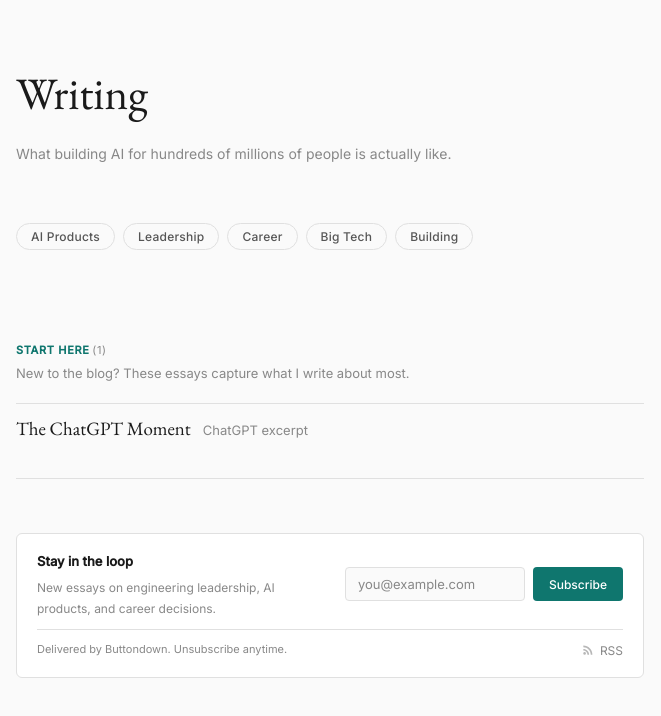
Test: Home page › clicking an active tag clears the filter
Click the button "Career".
click(262, 237)  # box [227,223,298,250]
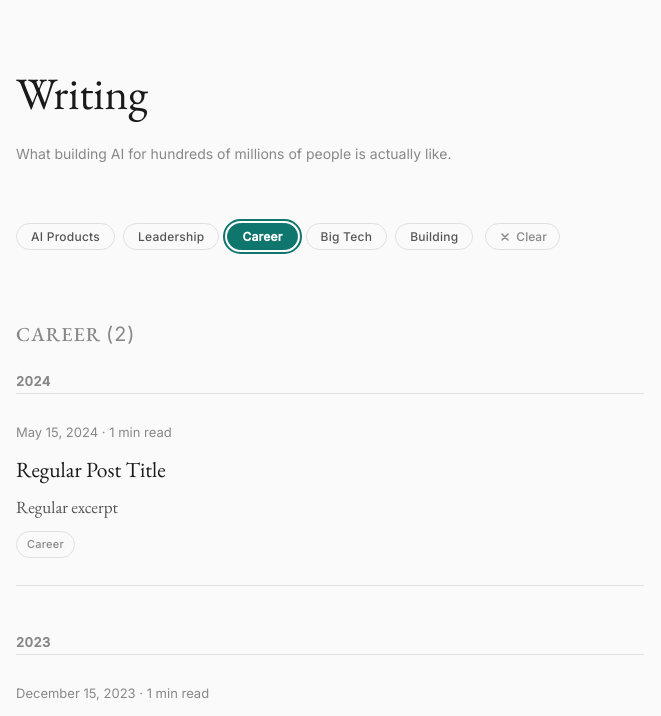
Click the button "Career".
click(262, 237)  # box [227,223,298,250]
(page scrolled)
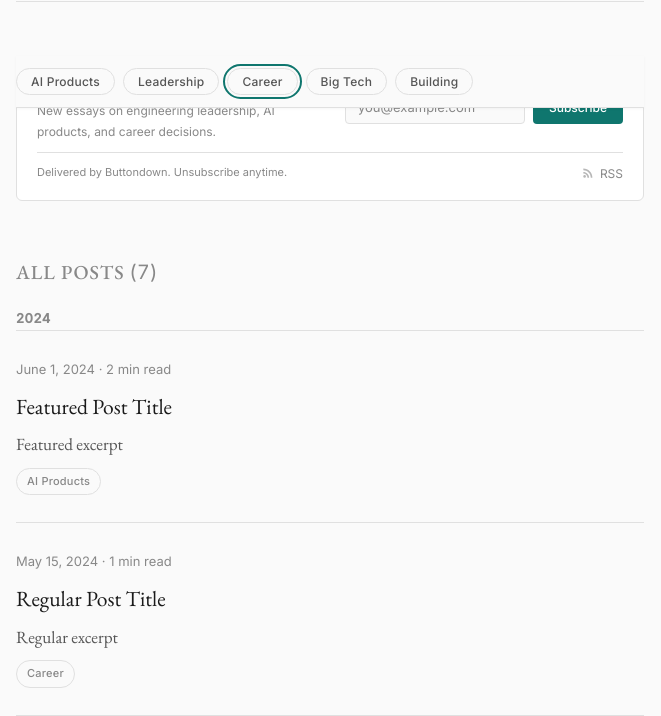
Result: the link "Featured Post Title" is shown at [16,392,172,420]
